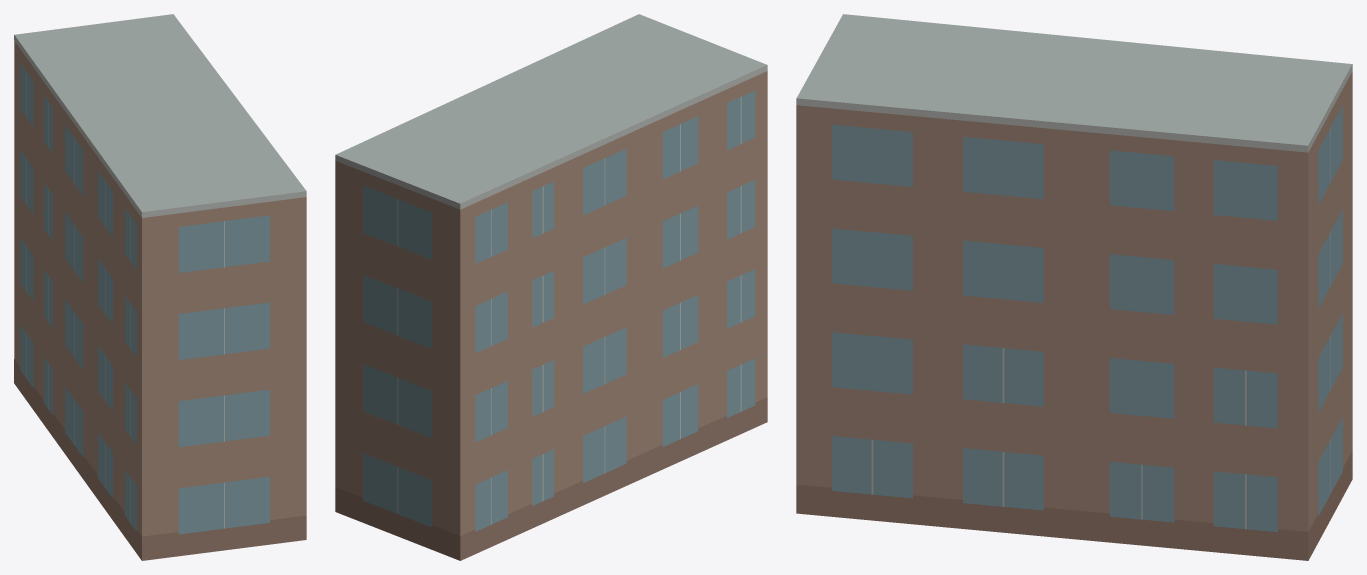
File: survey-upis-33044194.glb
3 views of the same model, side by side, from view 1: azimuth 30°, elevation 25°; view 2: azimuth 150°, elevation 25°; view 3: azimuth 270°, elevation 25° (orthographic). The views are drawn at different scales.
Visible parts, largest first — view 1: survey-upis-33044194.tmp; view 2: survey-upis-33044194.tmp; view 3: survey-upis-33044194.tmp.
Boxes of the visible parts, left/top/right/bottom form: survey-upis-33044194.tmp: left=14, top=14, right=306, bottom=560; survey-upis-33044194.tmp: left=335, top=14, right=767, bottom=560; survey-upis-33044194.tmp: left=796, top=14, right=1352, bottom=560.
Bounding box in the file's own units: 10.08 × 14.8 × 17.98.
